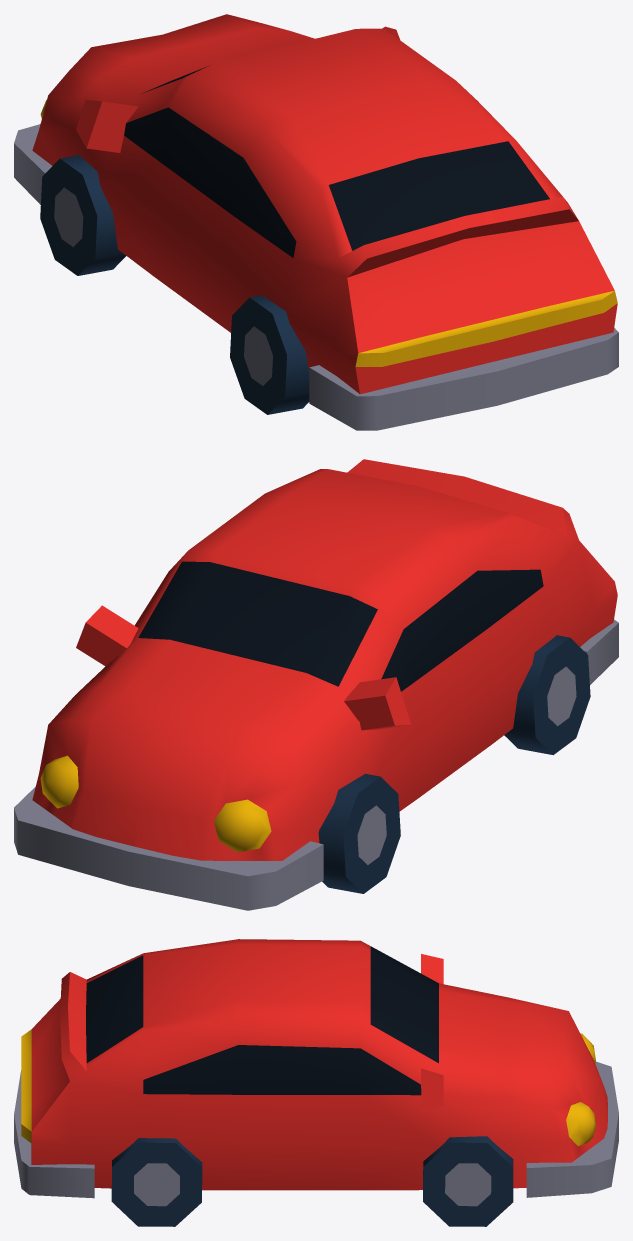
Rendered from CarRed (2).fbx.
3 renders of one model, top to bottom at view 1: azimuth 30°, elevation 25°; view 2: azimuth 150°, elevation 25°; view 3: azimuth 270°, elevation 25°, orthographic. The views are drawn at different scales.
Visible parts, largest first — view 1: Cube.046; view 2: Cube.046; view 3: Cube.046.
Part boxes in pixels (bbox=[...]): Cube.046: bbox=[14, 14, 618, 430]; Cube.046: bbox=[14, 459, 618, 910]; Cube.046: bbox=[14, 939, 618, 1226].
Bounding box in the file's own units: 22.03 × 15.36 × 43.34.
